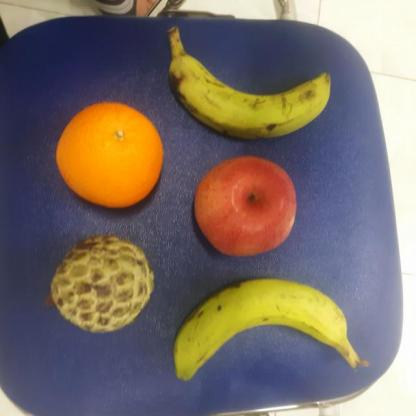annona: (44, 231, 160, 336)
apple: (194, 156, 297, 259)
banana: (172, 275, 364, 378), (170, 43, 333, 146)
orange: (52, 98, 166, 211)
